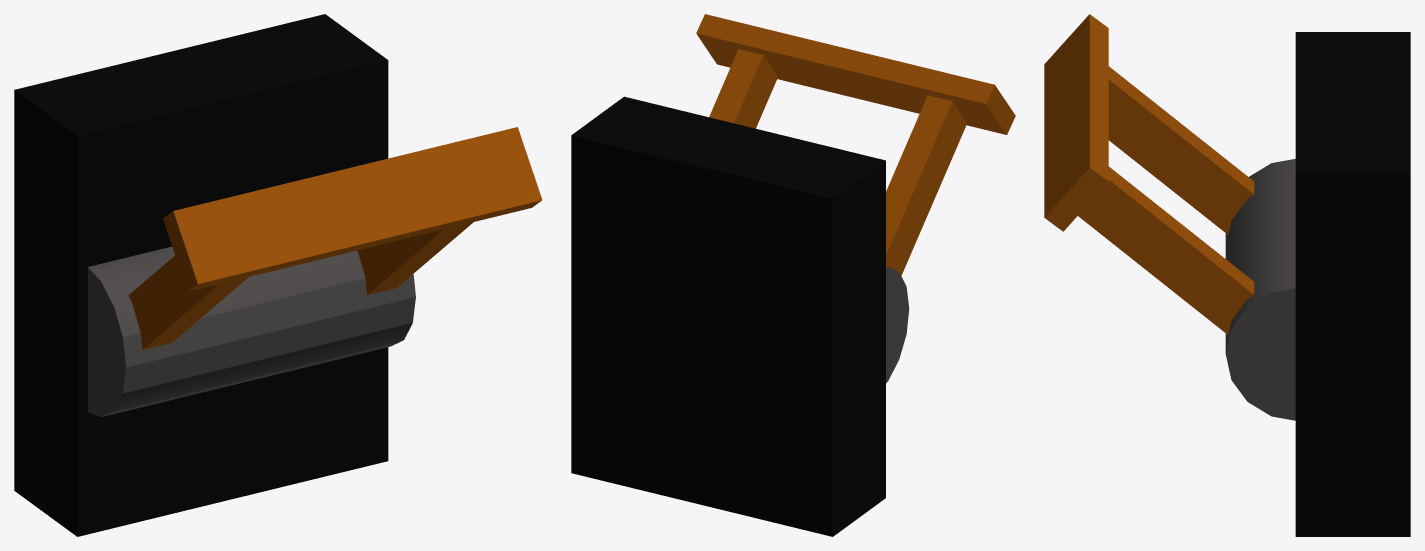
Rendered from EmptyGarbage.fbx.
3 renders of one model, left to right at view 1: azimuth 30°, elevation 25°; view 2: azimuth 150°, elevation 25°; view 3: azimuth 270°, elevation 25°, orthographic. The views are drawn at different scales.
Parts seen in each view (by area): view 1: EmptyGarbage; view 2: EmptyGarbage; view 3: EmptyGarbage.
Part boxes in pixels (x1,y1,x2,y2): EmptyGarbage: (14,14,542,536); EmptyGarbage: (571,14,1015,536); EmptyGarbage: (1044,14,1410,536).
Bounding box in the file's own units: 140 × 160 × 141.
